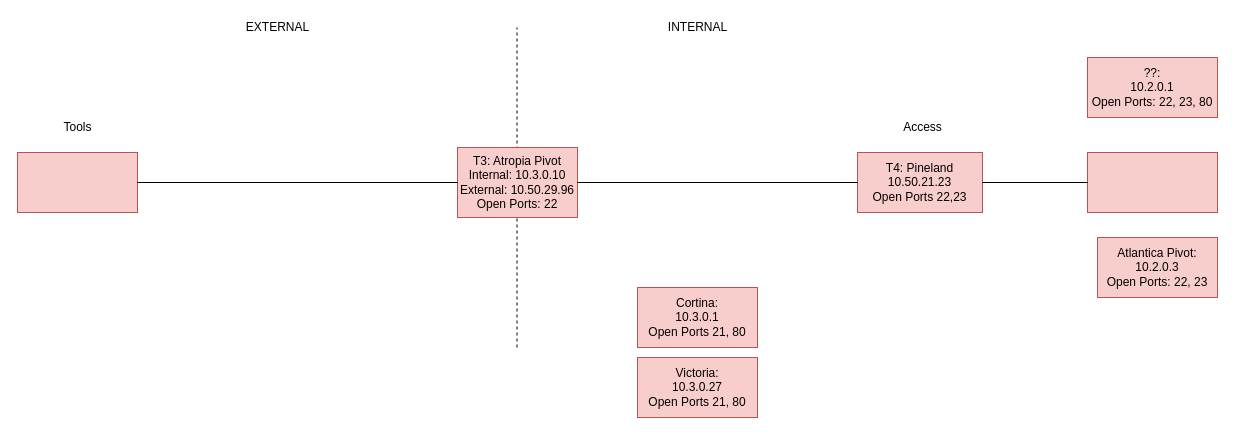
Image size: 1235x435. Some labels were removed from this diagram. The shapes that lost their labels are listed below. From the top down, each one's box as (x1, y1, x2, y2) in pixels, then its label:
(16, 152, 138, 212): Internet Host IP: 10.10.0.40
(1086, 152, 1218, 212): Mohammad: 10.2.0.2 Open Ports: 21, 80
